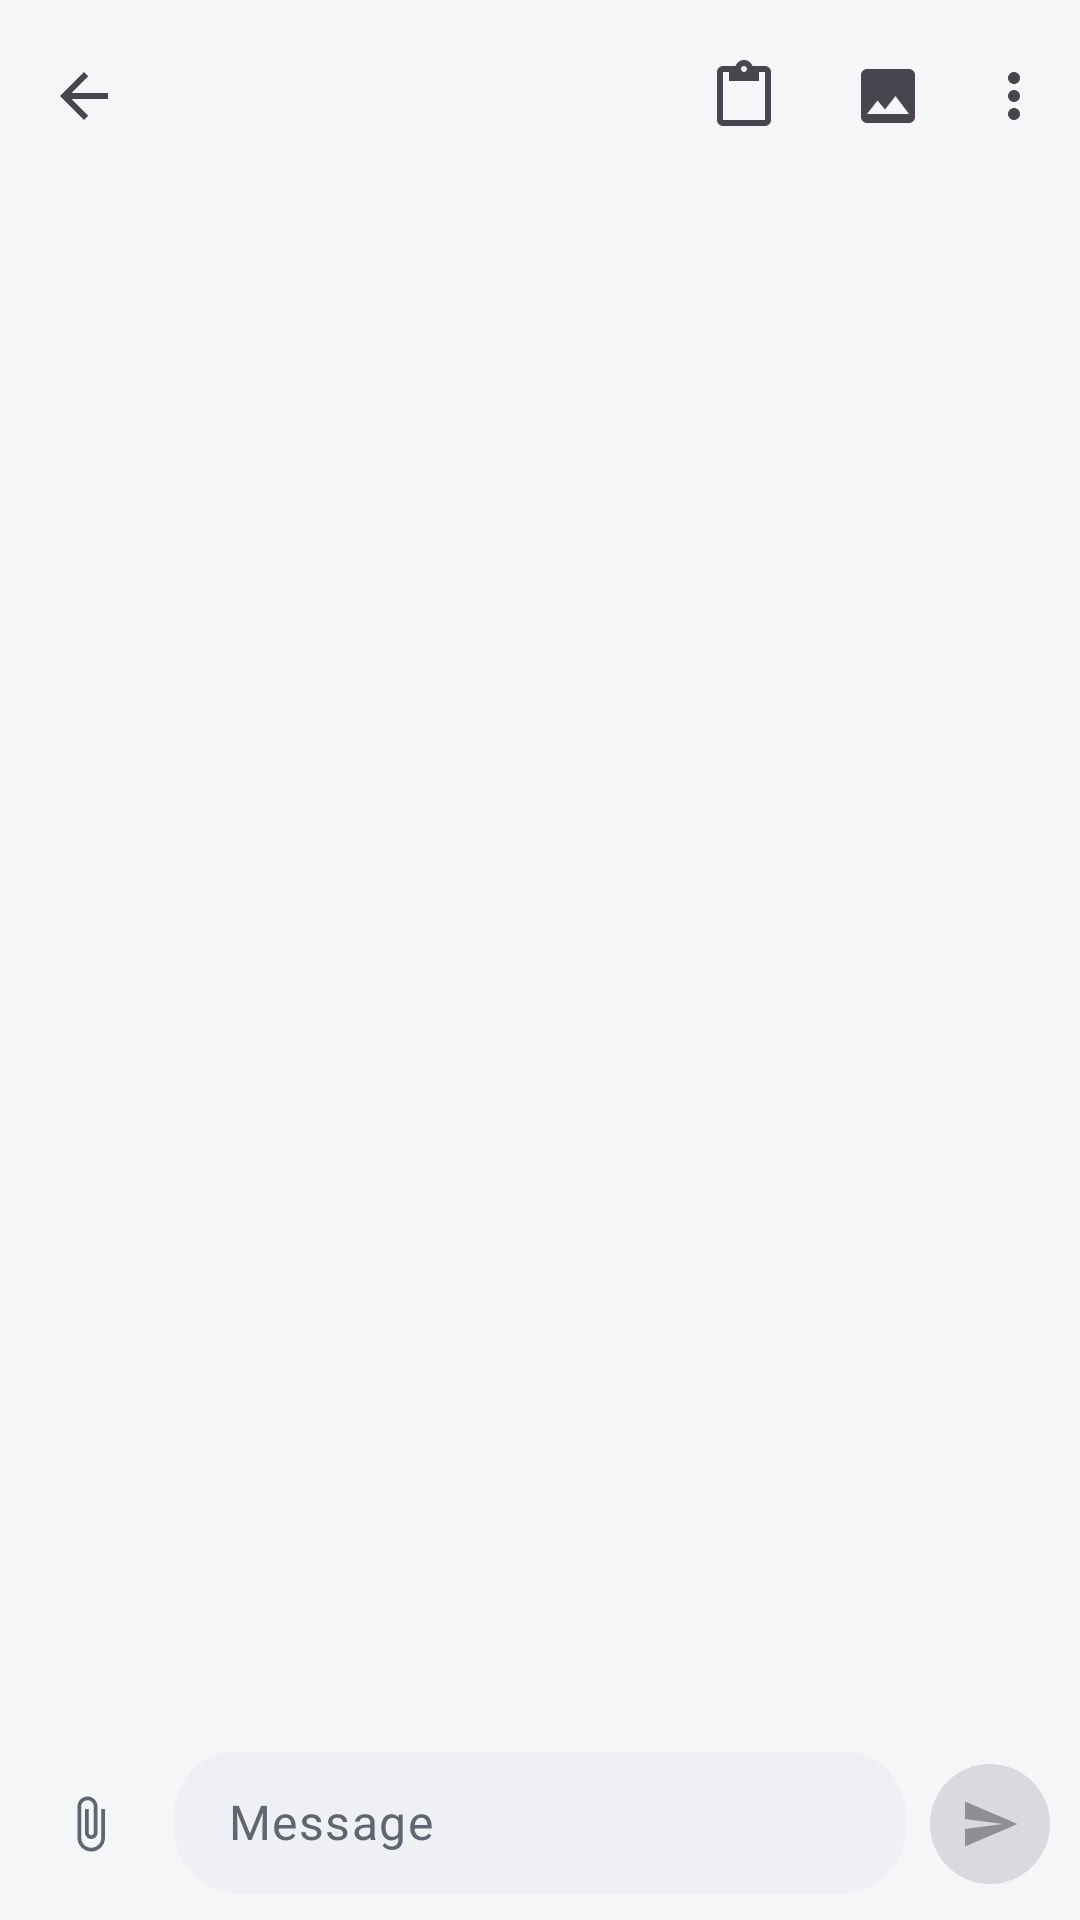

Icons on this 1080w x 1920h Android screen, each with the point to tap as [x,y]:
Attach: [91,1824]
Send: [990,1824]
